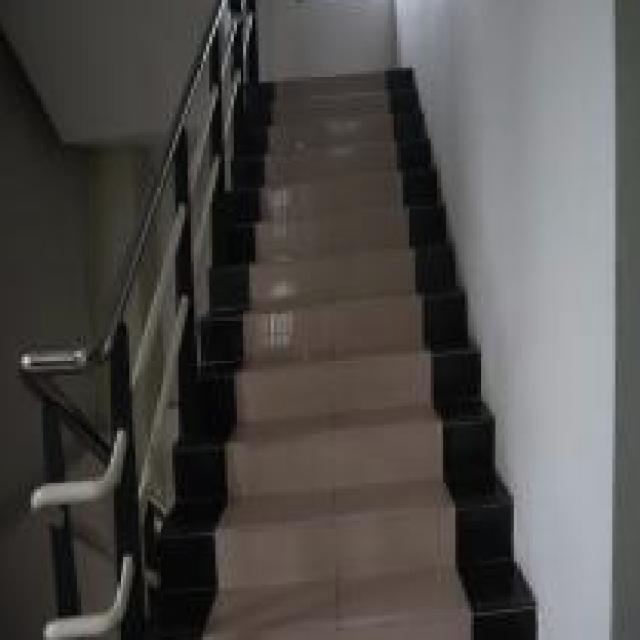upstair: (192, 136, 475, 640)
